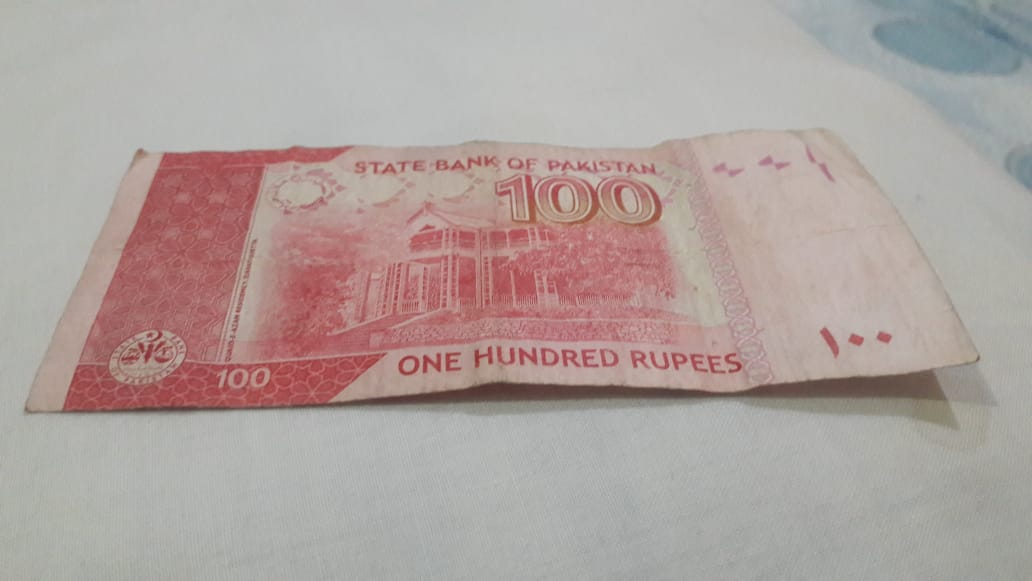100 rupee: (41, 135, 976, 403)
